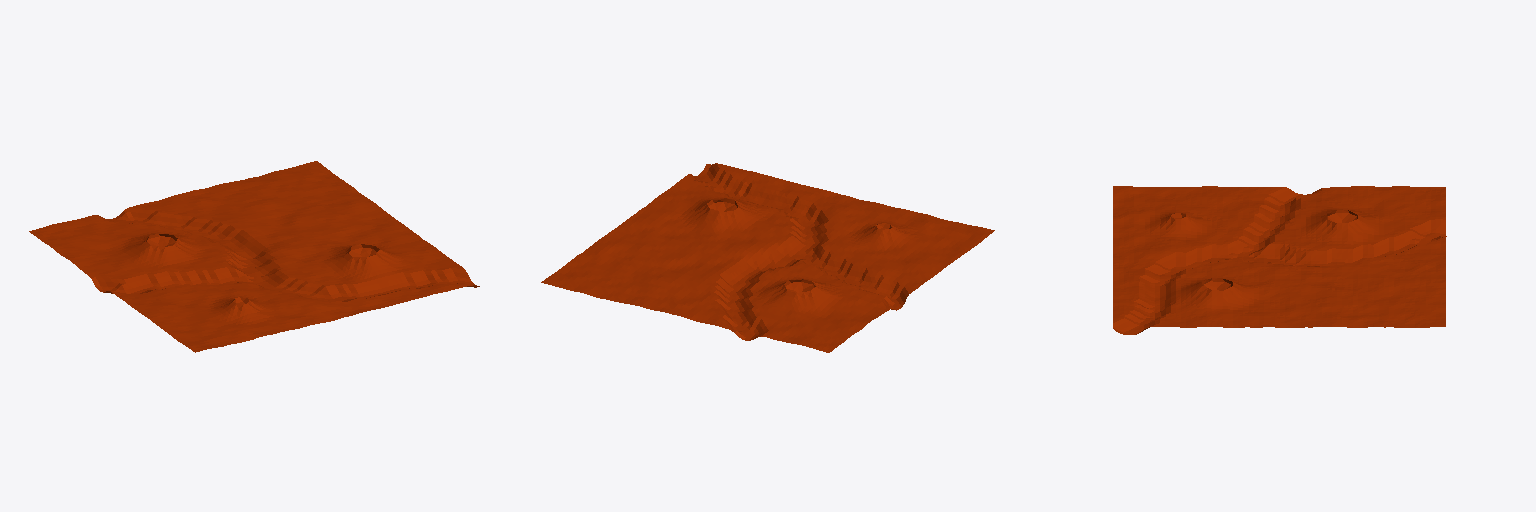
The model's file is start.obj.
3 renders of one model, left to right at view 1: azimuth 30°, elevation 25°; view 2: azimuth 150°, elevation 25°; view 3: azimuth 270°, elevation 25°, orthographic.
Visible parts, largest first — view 1: Plane; view 2: Plane; view 3: Plane.
Part boxes in pixels (x1,y1,x2,y2): Plane: (29, 161, 479, 352); Plane: (541, 163, 994, 352); Plane: (1113, 186, 1446, 334).
Bounding box in the file's own units: 270 × 17.59 × 270.